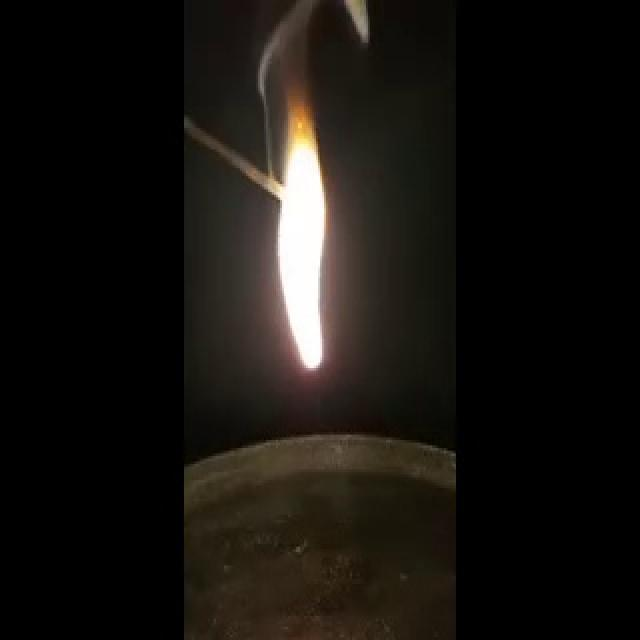fire: (269, 65, 347, 396)
